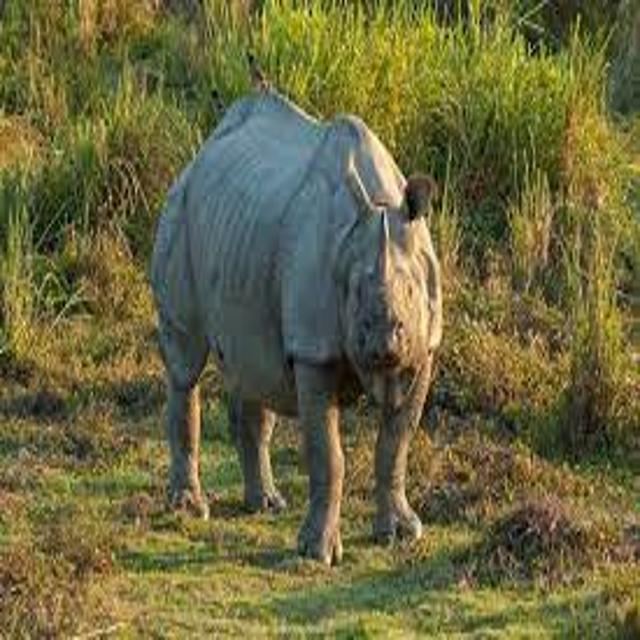rhino: (107, 45, 491, 589)
